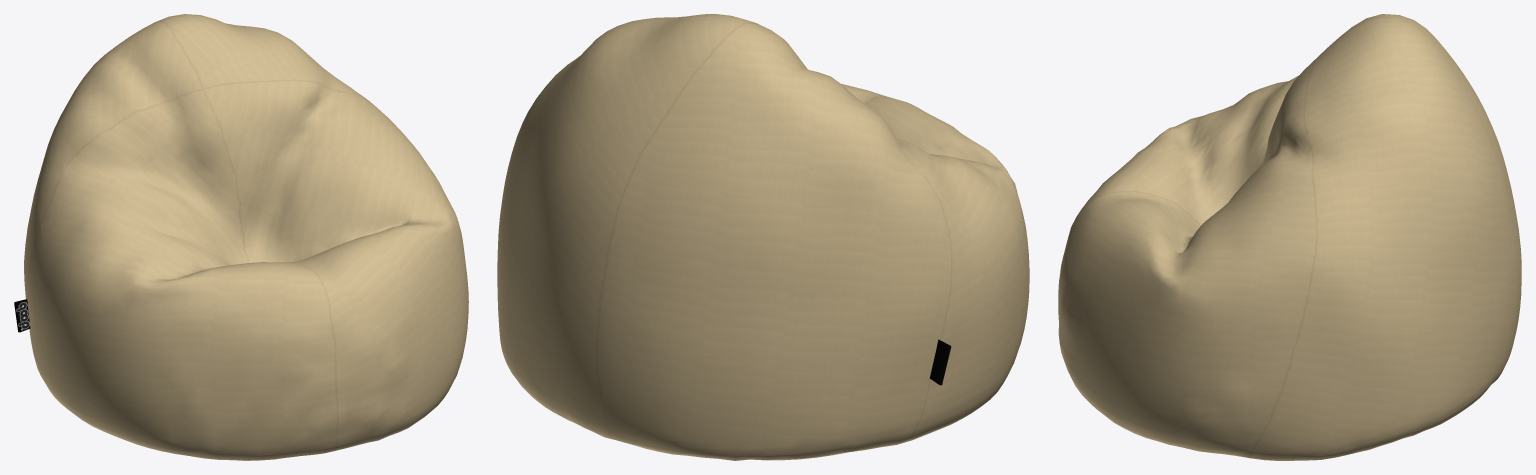
Rendered from doob-bean-bag-1-winter-wheat-medium.glb.
The picture shows the model from 3 angles, left to right: view 1: azimuth 30°, elevation 25°; view 2: azimuth 150°, elevation 25°; view 3: azimuth 270°, elevation 25°; orthographic projection. The views are drawn at different scales.
Parts seen in each view (by area): view 1: bean bag-low.002; view 2: bean bag-low.002; view 3: bean bag-low.002.
Part boxes in pixels (<box>): bean bag-low.002: <box>14,14,468,460</box>; bean bag-low.002: <box>497,14,1029,460</box>; bean bag-low.002: <box>1058,14,1521,460</box>.
Size of the model in its own units: 0.9 by 0.75 by 0.9.
2 materials, 2 textured.
